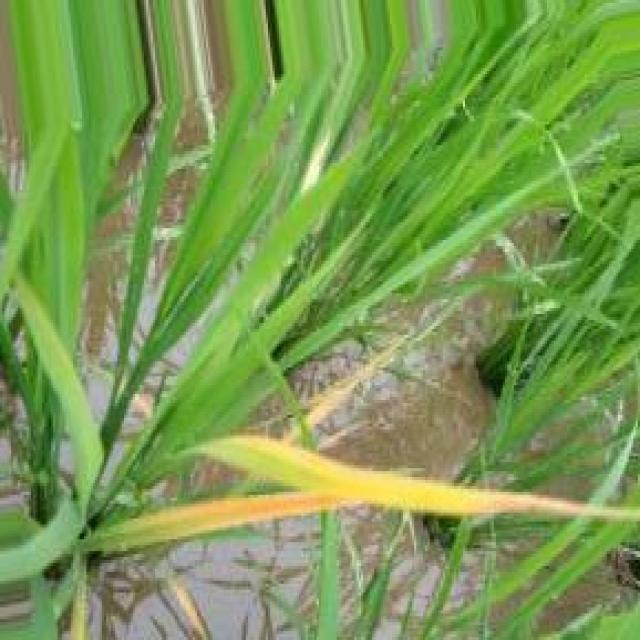Rice Tungro: (200, 435, 640, 521), (86, 492, 354, 553), (168, 575, 212, 639)
